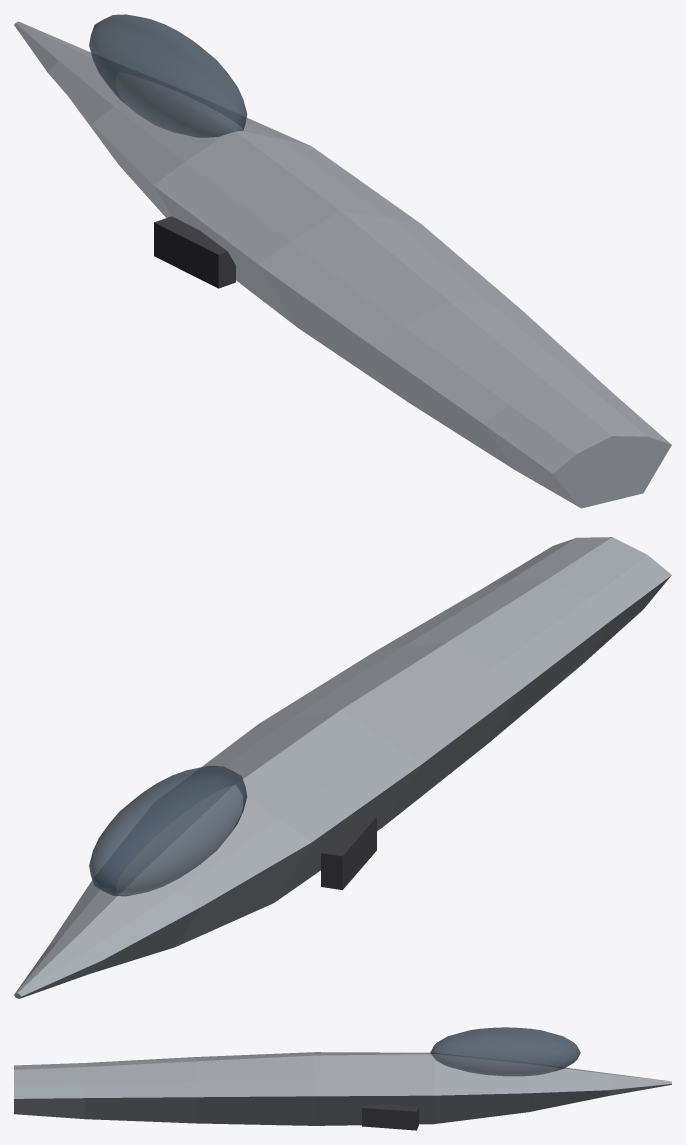
Rendered from f22_body.glb.
3 renders of one model, top to bottom at view 1: azimuth 30°, elevation 25°; view 2: azimuth 150°, elevation 25°; view 3: azimuth 270°, elevation 25°, orthographic. The views are drawn at different scales.
Parts seen in each view (by area): view 1: f22_body; view 2: f22_body; view 3: f22_body.
Boxes of the visible parts, bbox=[...] form: f22_body: bbox=[14, 14, 671, 508]; f22_body: bbox=[14, 537, 671, 998]; f22_body: bbox=[14, 1027, 671, 1130].
Bounding box in the file's own units: 1.52 × 1.18 × 8.3.
